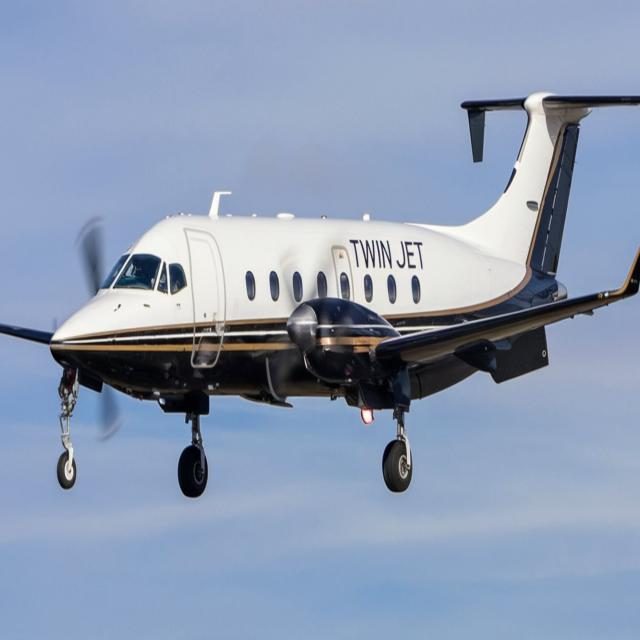jet: (18, 64, 640, 544)
